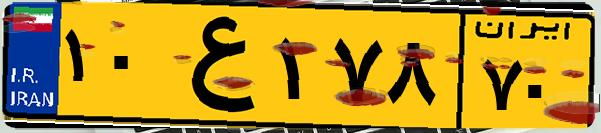0: (525, 38, 570, 115), (110, 28, 158, 98)
1: (270, 28, 330, 110), (57, 26, 110, 100)
7: (330, 28, 385, 110), (475, 38, 525, 113)
8: (385, 28, 445, 110)
ع: (158, 12, 270, 120)
